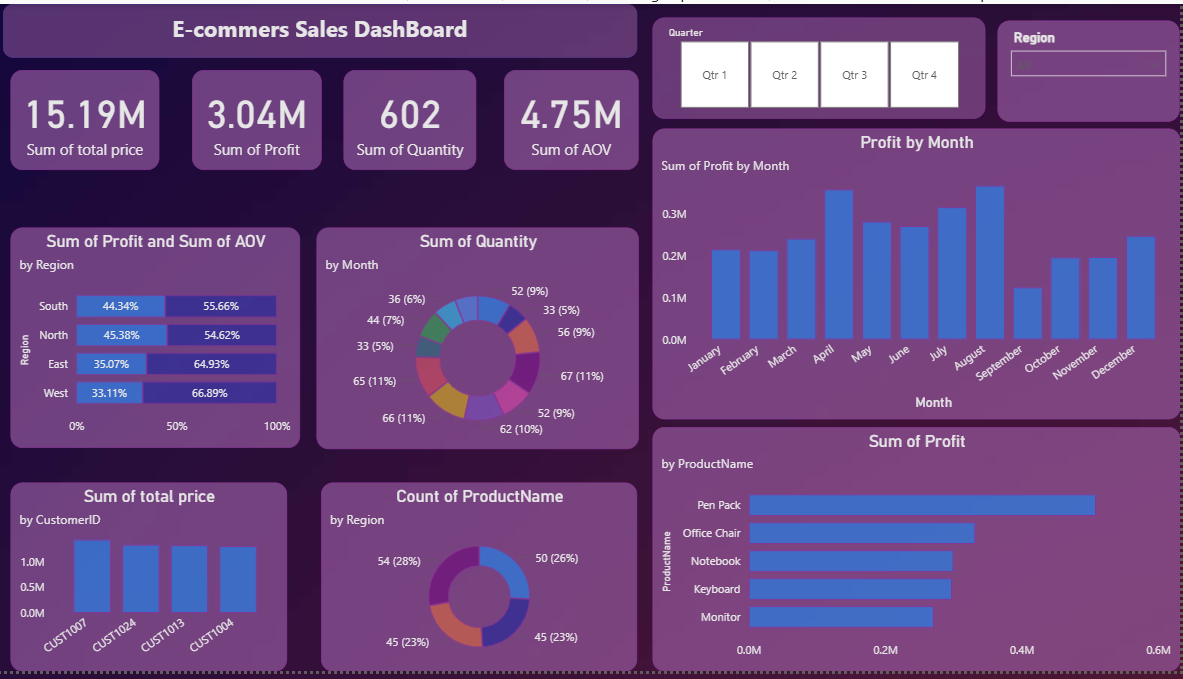

Layout of this report page (visuals, bound fields, positions):
{"tool":"powerbi","page":{"name":"Page 1","canvas":[1280,720],"ordinal":0},"visuals":[{"type":"textbox","box":[9.7,0,684.9,58.3],"z":0},{"type":"clusteredColumnChart","title":"Profit by Month","fields":{"Category":["sales_orders.OderDate.Variation.Date Hierarchy.Month"],"Y":["Sum(order_details_with_profit.Profit)"]},"box":[710.8,134.4,570,314.1],"z":1000},{"type":"clusteredBarChart","fields":{"Category":["order_details_with_profit.ProductName"],"Y":["Sum(order_details_with_profit.Profit)"]},"box":[710.8,456.6,570,263.9],"z":2000},{"type":"donutChart","fields":{"Series":["sales_orders.Region"],"Y":["CountNonNull(order_details_with_profit.ProductName)"]},"box":[353,516.5,341.7,204],"z":3000},{"type":"donutChart","fields":{"Series":["sales_orders.OderDate.Variation.Date Hierarchy.Month"],"Y":["Sum(order_details_with_profit.Quantity)"]},"box":[348.1,241.3,348.1,239.6],"z":4000},{"type":"card","fields":{"Values":["Sum(order_details_with_profit.total price)"]},"box":[17,71.8,160.6,107.7],"z":5000},{"type":"card","fields":{"Values":["Sum(order_details_with_profit.Profit)"]},"box":[213.5,71.8,139.8,107.7],"z":6000},{"type":"card","fields":{"Values":["Sum(order_details_with_profit.Quantity)"]},"box":[378,71.8,143.6,107.7],"z":7000},{"type":"card","fields":{"Values":["Sum(order_details_with_profit.AOV)"]},"box":[549.9,71.8,145.5,107.7],"z":8000},{"type":"hundredPercentStackedBarChart","fields":{"Category":["sales_orders.Region"],"Y":["Sum(order_details_with_profit.Profit)","Sum(order_details_with_profit.AOV)"]},"box":[17.8,241.3,312.5,238],"z":9000},{"type":"clusteredColumnChart","fields":{"Category":["sales_orders.CustomerID"],"Y":["Sum(order_details_with_profit.total price)"]},"box":[17,515.9,298.6,204.1],"z":10000},{"type":"slicer","fields":{"Values":["sales_orders.OderDate.Variation.Date Hierarchy.Quarter"]},"box":[710.6,15.1,359.1,109.6],"z":11000},{"type":"slicer","fields":{"Values":["sales_orders.Region"]},"box":[1082.8,17,196.5,109.6],"z":12000}]}

Visuals, with their boxes in screenshot pixels (x1, y1, x2, y2), scaled from the page's 1280x720 canvas onto the 1183x679 screenshot:
textbox: left=9, top=0, right=642, bottom=55
"Profit by Month" clusteredColumnChart: left=657, top=127, right=1182, bottom=423
clusteredBarChart - order_details_with_profit.ProductName x Sum(order_details_with_profit.Profit): left=657, top=431, right=1182, bottom=678
donutChart - sales_orders.Region x CountNonNull(order_details_with_profit.ProductName): left=326, top=487, right=642, bottom=678
donutChart - sales_orders.OderDate.Variation.Date Hierarchy.Month x Sum(order_details_with_profit.Quantity): left=322, top=228, right=643, bottom=454
card - Sum(order_details_with_profit.total price): left=16, top=68, right=164, bottom=169
card - Sum(order_details_with_profit.Profit): left=197, top=68, right=327, bottom=169
card - Sum(order_details_with_profit.Quantity): left=349, top=68, right=482, bottom=169
card - Sum(order_details_with_profit.AOV): left=508, top=68, right=643, bottom=169
hundredPercentStackedBarChart - sales_orders.Region x Sum(order_details_with_profit.Profit): left=16, top=228, right=305, bottom=452
clusteredColumnChart - sales_orders.CustomerID x Sum(order_details_with_profit.total price): left=16, top=487, right=292, bottom=678
slicer - sales_orders.OderDate.Variation.Date Hierarchy.Quarter: left=657, top=14, right=989, bottom=118
slicer - sales_orders.Region: left=1001, top=16, right=1182, bottom=119
